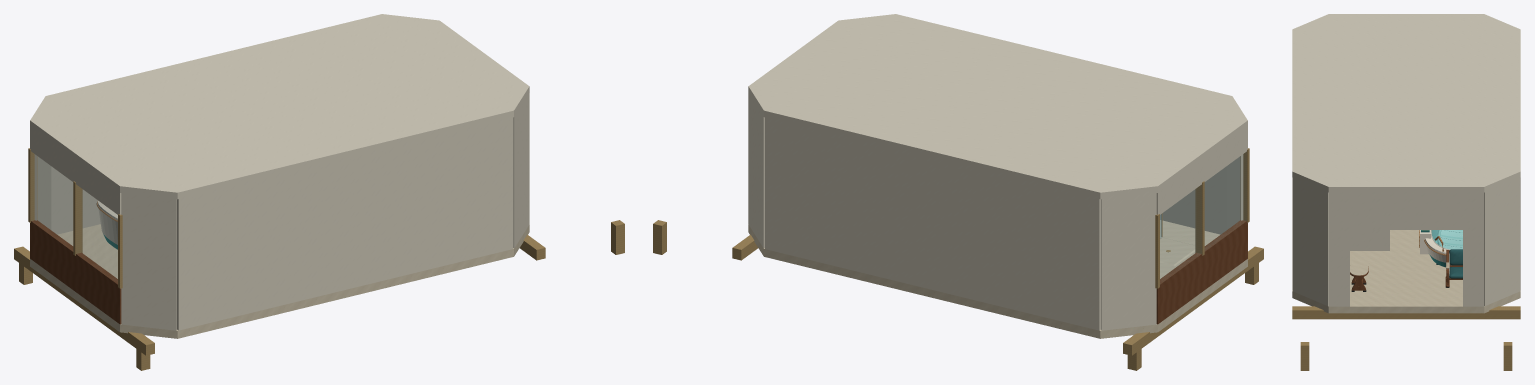
Rendered from D04_STARBOARD_AFT_HOME_999_r001.glb.
The picture shows the model from 3 angles, left to right: view 1: azimuth 30°, elevation 25°; view 2: azimuth 150°, elevation 25°; view 3: azimuth 270°, elevation 25°; orthographic projection. The views are drawn at different scales.
Visible parts, largest first — view 1: SA999_D04H988_Roof, SA999_D04H988_Shell_7, SA999_D04H988_Shell_6, SA999_D04H988_Floor, SA999_D04H988_GardenGlass, SA999_D04H988_GardenDado, SA999_D04H988_GardenHead, SA999_D04H988_Shell_0, SA999_D04H988_Shell_3, SA999_D04H988_Long_-29.35, SA999_D04H988_Shell_4, SA999_D04H988_WindowMullion_1 (+2 smaller); view 2: SA999_D04H988_Roof, SA999_D04H988_Shell_3, SA999_D04H988_Shell_4, SA999_D04H988_Floor, SA999_D04H988_GardenGlass, SA999_D04H988_GardenDado, SA999_D04H988_GardenHead, SA999_D04H988_Shell_7, SA999_D04H988_Shell_2, SA999_D04H988_Long_-29.35, SA999_D04H988_Shell_6, SA999_Shower__SHW_SlopedTray (+2 smaller); view 3: SA999_D04H988_Roof, SA999_D04H988_Floor, SA999_D04H988_EntryHeader, SA999_D04H988_Shell_0, SA999_D04H988_Shell_2, SA999_D04H988_EntryWall_0, SA999_D04H988_EntryWall_1, SA999_D04H988_Long_-41.650000000000006, SA999_D04H988_BathDogleg, SA999_ReservedAquaticRest_1__WaterSurface_VisualOnly, SA999_ReservedAquaticRest_1__Hollow continuous basin shell w, SA999_ReservedAquaticRest_1__Contoured broad immersed rest s (+4 smaller).
Part boxes in pixels (x1=…): SA999_D04H988_Roof: x1=30, y1=14, x2=529, y2=199; SA999_D04H988_Shell_7: x1=177, y1=117, x2=512, y2=330; SA999_D04H988_Shell_6: x1=121, y1=193, x2=176, y2=330; SA999_D04H988_Floor: x1=30, y1=224, x2=529, y2=338; SA999_D04H988_GardenGlass: x1=34, y1=156, x2=117, y2=281; SA999_D04H988_GardenDado: x1=30, y1=220, x2=121, y2=324; SA999_D04H988_GardenHead: x1=30, y1=127, x2=121, y2=214; SA999_D04H988_Shell_0: x1=513, y1=94, x2=528, y2=247; SA999_D04H988_Shell_3: x1=51, y1=166, x2=100, y2=234; SA999_D04H988_Long_-29.35: x1=14, y1=246, x2=154, y2=355; SA999_D04H988_Shell_4: x1=34, y1=154, x2=51, y2=229; SA999_D04H988_WindowMullion_1: x1=73, y1=181, x2=82, y2=255; SA999_D04H988_Roof: x1=748, y1=14, x2=1247, y2=199; SA999_D04H988_Shell_3: x1=765, y1=117, x2=1100, y2=330; SA999_D04H988_Shell_4: x1=1101, y1=193, x2=1156, y2=330; SA999_D04H988_Floor: x1=748, y1=220, x2=1247, y2=338; SA999_D04H988_GardenGlass: x1=1160, y1=156, x2=1244, y2=283; SA999_D04H988_GardenDado: x1=1156, y1=220, x2=1247, y2=324; SA999_D04H988_GardenHead: x1=1156, y1=127, x2=1247, y2=214; SA999_D04H988_Shell_7: x1=1160, y1=166, x2=1226, y2=234; SA999_D04H988_Shell_2: x1=749, y1=94, x2=764, y2=247; SA999_D04H988_Long_-29.35: x1=1123, y1=246, x2=1263, y2=355; SA999_D04H988_Shell_6: x1=1226, y1=154, x2=1243, y2=229; SA999_Shower__SHW_SlopedTray: x1=1160, y1=237, x2=1195, y2=266; SA999_D04H988_Roof: x1=1292, y1=14, x2=1520, y2=192; SA999_D04H988_Floor: x1=1292, y1=230, x2=1520, y2=313; SA999_D04H988_EntryHeader: x1=1350, y1=192, x2=1462, y2=229; SA999_D04H988_Shell_0: x1=1293, y1=177, x2=1328, y2=305; SA999_D04H988_Shell_2: x1=1484, y1=177, x2=1519, y2=305; SA999_D04H988_EntryWall_0: x1=1328, y1=192, x2=1349, y2=306; SA999_D04H988_EntryWall_1: x1=1463, y1=192, x2=1484, y2=306; SA999_D04H988_Long_-41.650000000000006: x1=1292, y1=306, x2=1520, y2=319; SA999_D04H988_BathDogleg: x1=1350, y1=230, x2=1389, y2=250; SA999_ReservedAquaticRest_1__WaterSurface_VisualOnly: x1=1432, y1=230, x2=1462, y2=249; SA999_ReservedAquaticRest_1__Hollow continuous basin shell w: x1=1425, y1=230, x2=1447, y2=267; SA999_ReservedAquaticRest_1__Contoured broad immersed rest s: x1=1437, y1=230, x2=1462, y2=249.
Size of the model in its own units: 15.41 by 5.24 by 7.2.
Materials: 51 (21 with a texture image).
